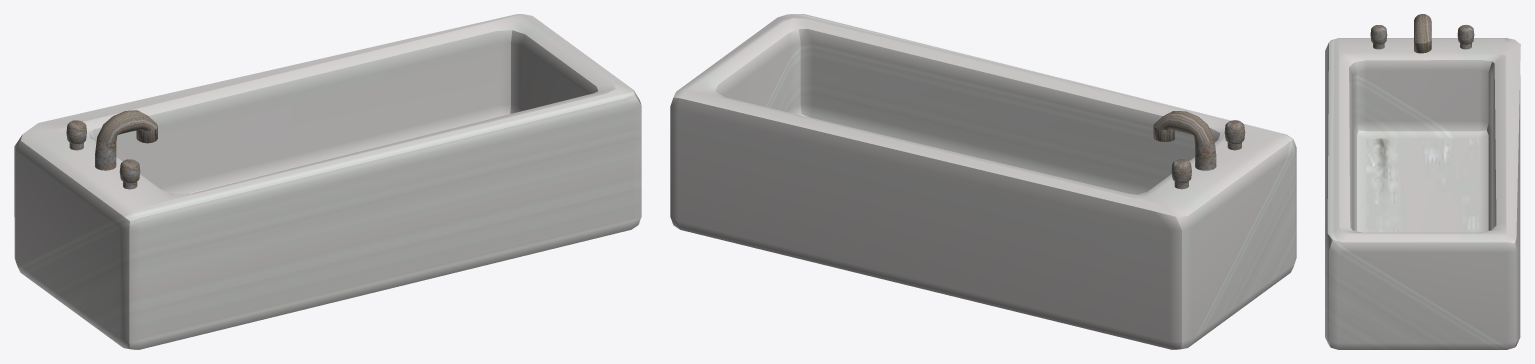
File: bathtub.fbx
3 views of the same model, side by side, from view 1: azimuth 30°, elevation 25°; view 2: azimuth 150°, elevation 25°; view 3: azimuth 270°, elevation 25° (orthographic). The views are drawn at different scales.
Visible parts, largest first — view 1: pCube2, pCylinder3; view 2: pCube2, pCylinder3; view 3: pCube2, pCylinder3.
Part boxes in pixels (x1=…): pCube2: x1=14, y1=14, x2=641, y2=349; pCylinder3: x1=66, y1=110, x2=157, y2=189; pCube2: x1=670, y1=14, x2=1296, y2=349; pCylinder3: x1=1153, y1=111, x2=1245, y2=189; pCube2: x1=1325, y1=38, x2=1520, y2=349; pCylinder3: x1=1370, y1=14, x2=1474, y2=53.
Size of the model in its own units: 15.56 by 5.41 by 6.2.
